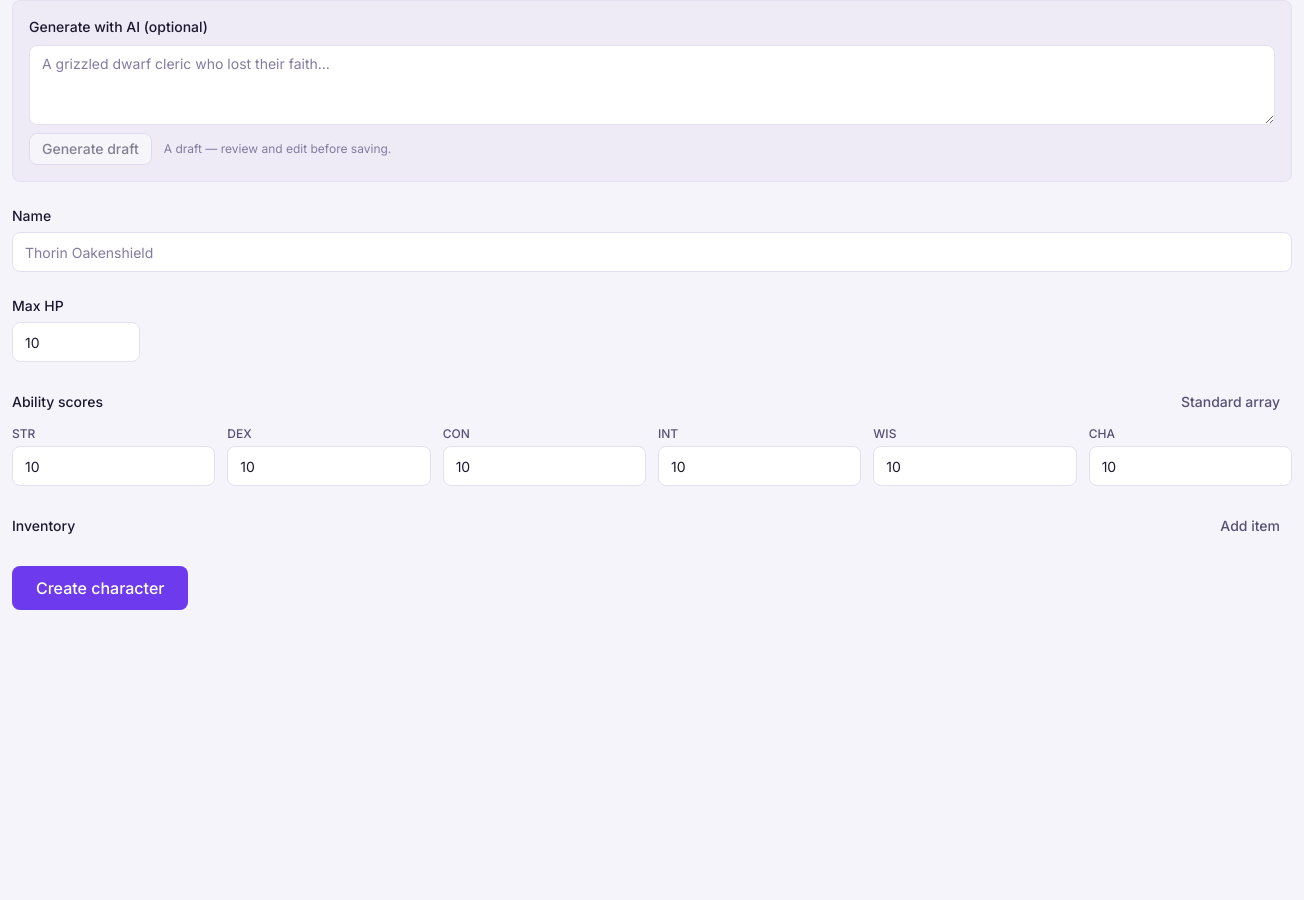
Test: CharacterCreationForm › prefills the form from an AI draft
Type "a dwarf warrior" into the text box with placeholder "A grizzled dwarf cleric who lost their faith…" at (652, 85), box [29,45,1275,125]
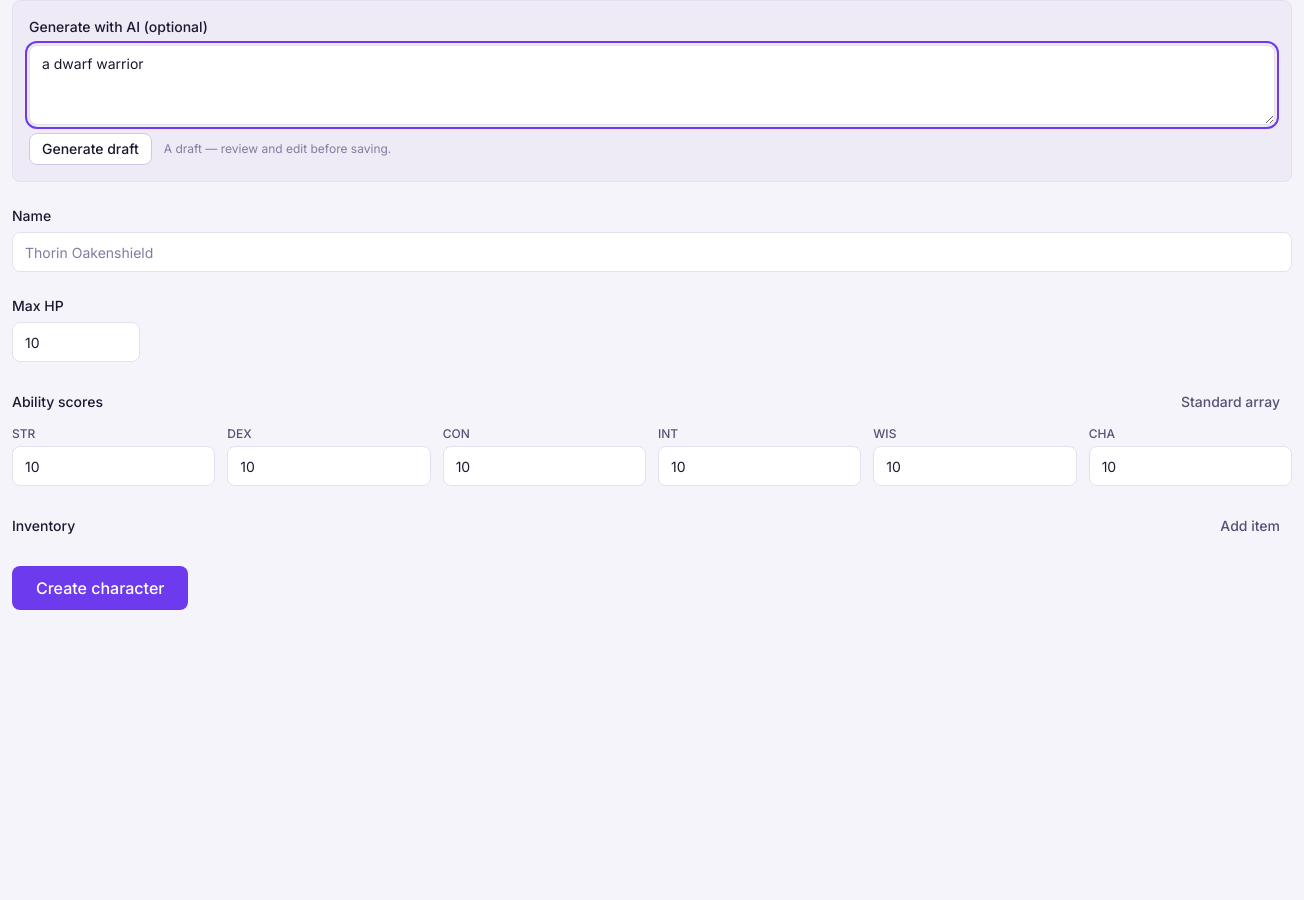
Click the button "Generate draft" at (90, 149), box [29,133,152,165]
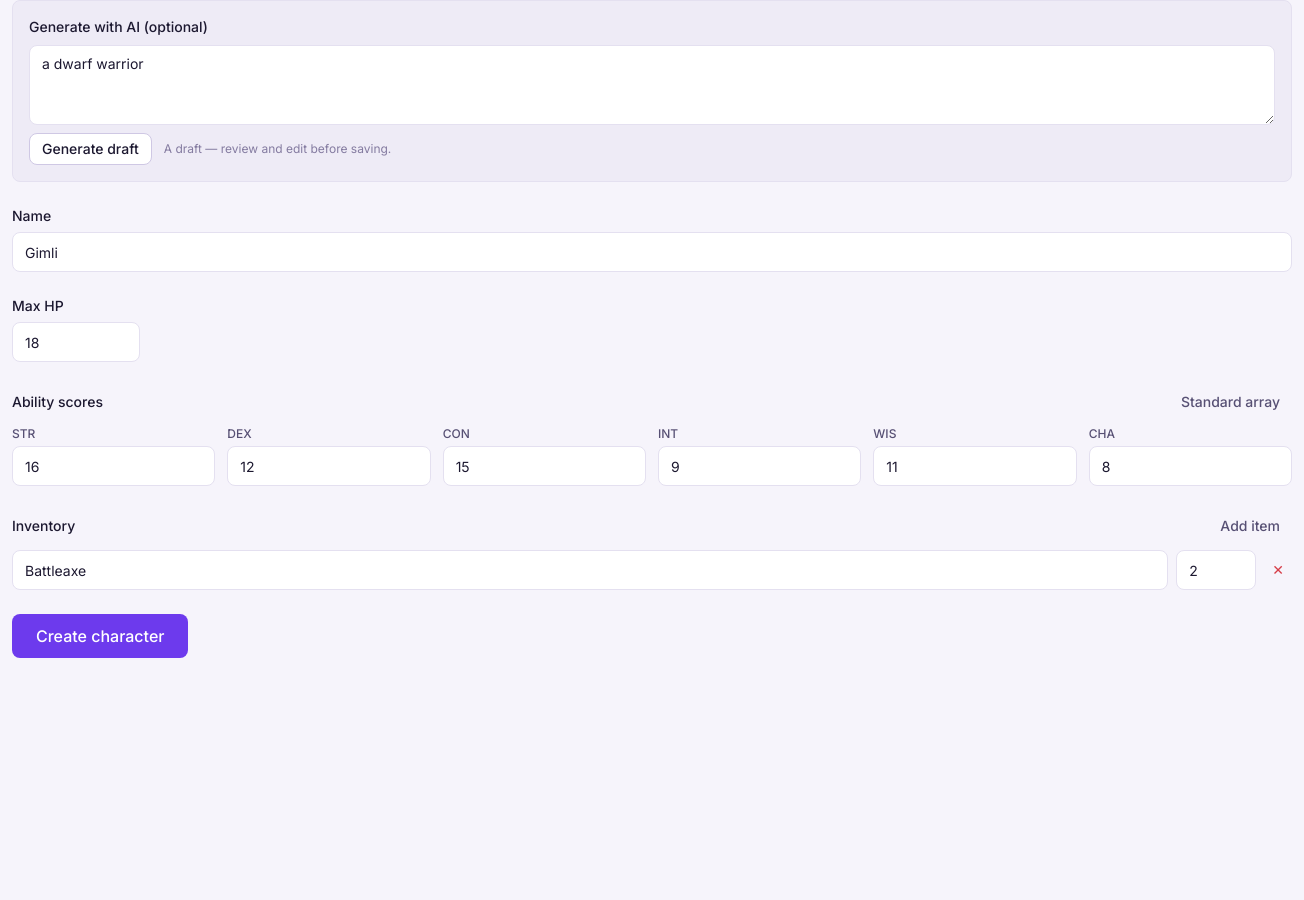
Expected: the number field labelled "STR" holds "16", [12,446,215,486]
Now the field showing "Gimli" is shown, box [12,232,1292,272]
